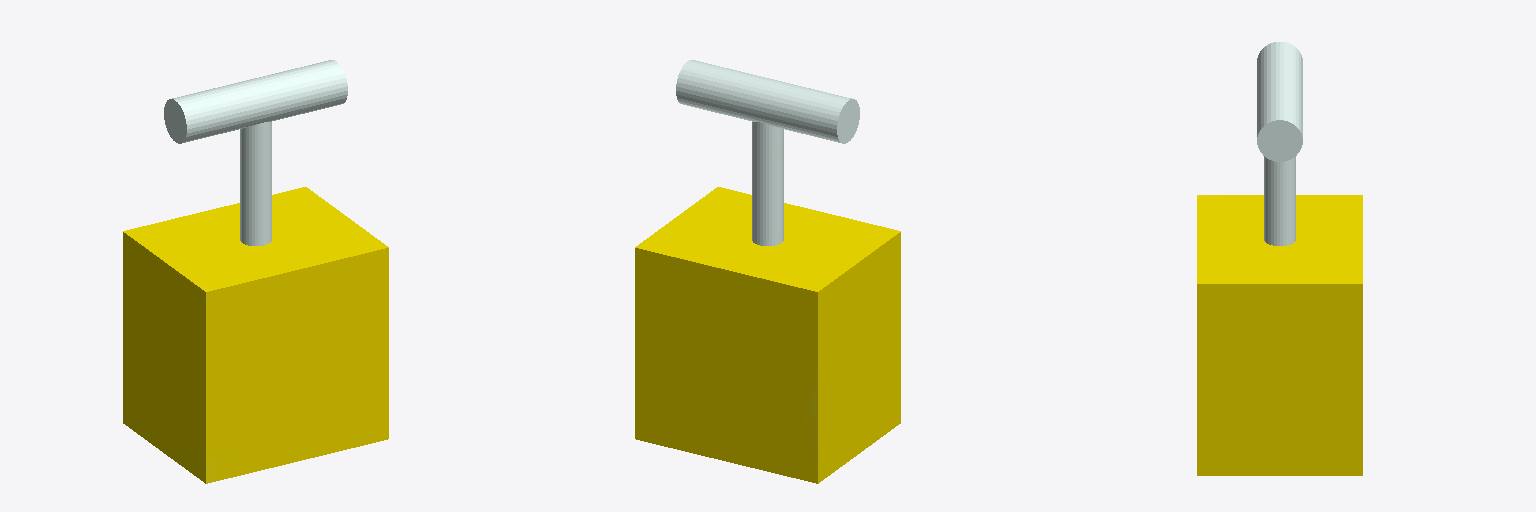
The picture shows the model from 3 angles: view 1: azimuth 30°, elevation 25°; view 2: azimuth 150°, elevation 25°; view 3: azimuth 270°, elevation 25°; orthographic projection.
Visible parts, largest first — view 1: 円柱.001; view 2: 円柱.001; view 3: 円柱.001.
Part boxes in pixels (x1,y1,x2,y2): 円柱.001: (123, 60, 388, 483); 円柱.001: (635, 60, 900, 483); 円柱.001: (1197, 42, 1362, 475).
Size of the model in its own units: 2 by 3.65 by 1.57.
1 materials, 1 textured.